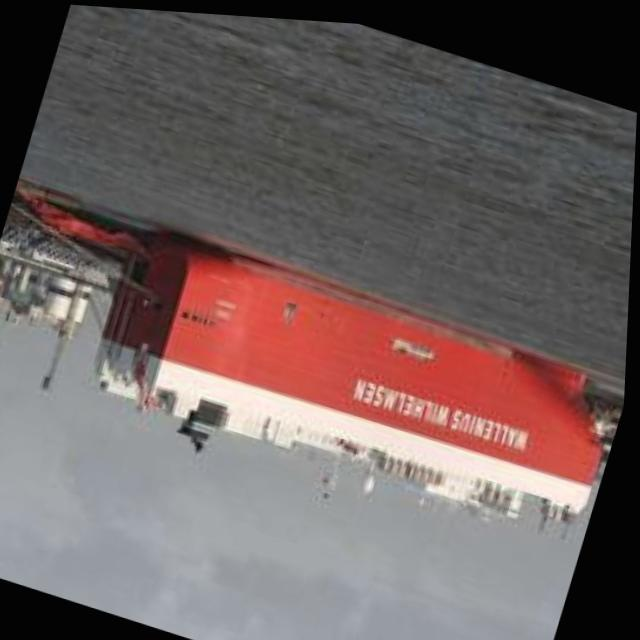ship2: (95, 228, 607, 535)
